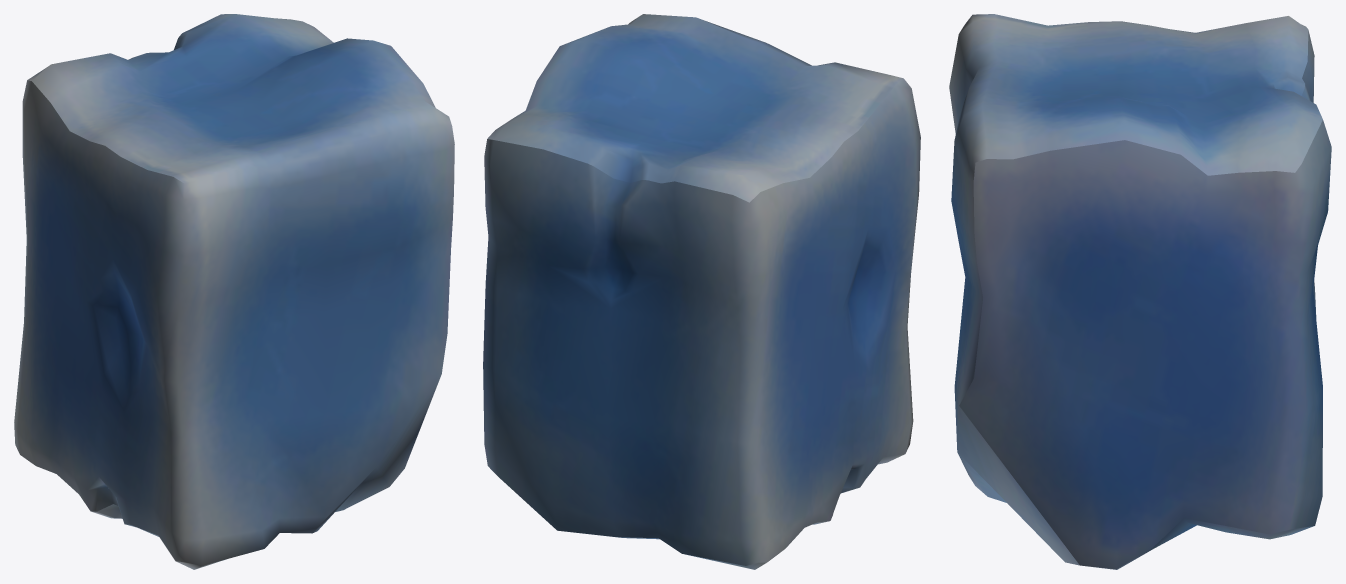
Rendered from p_dlc09_iceblock_02 (1).fbx.
3 views of the same model, side by side, from view 1: azimuth 30°, elevation 25°; view 2: azimuth 150°, elevation 25°; view 3: azimuth 270°, elevation 25° (orthographic). The views are drawn at different scales.
Parts seen in each view (by area): view 1: p_dlc09_iceblock_02 (1); view 2: p_dlc09_iceblock_02 (1); view 3: p_dlc09_iceblock_02 (1).
Part boxes in pixels (x1,y1,x2,y2): p_dlc09_iceblock_02 (1): (14, 14, 454, 569); p_dlc09_iceblock_02 (1): (483, 14, 920, 569); p_dlc09_iceblock_02 (1): (949, 14, 1331, 569).
Size of the model in its own units: 1.27 by 1.31 by 1.73.
Materials: 1 (1 with a texture image).
